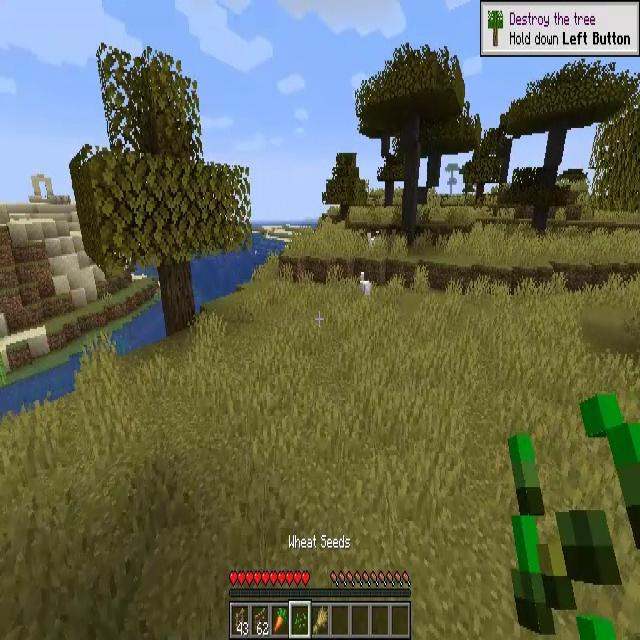duck: (360, 271, 373, 297)
